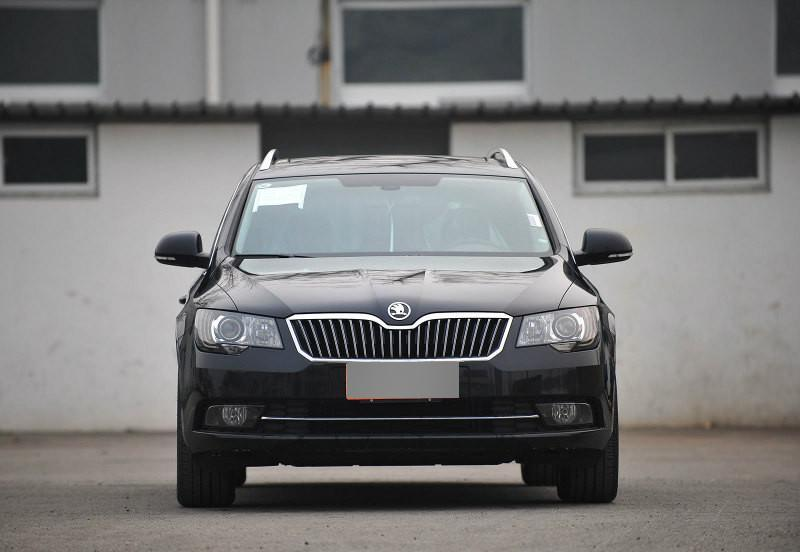Wagon: (152, 148, 634, 509)
